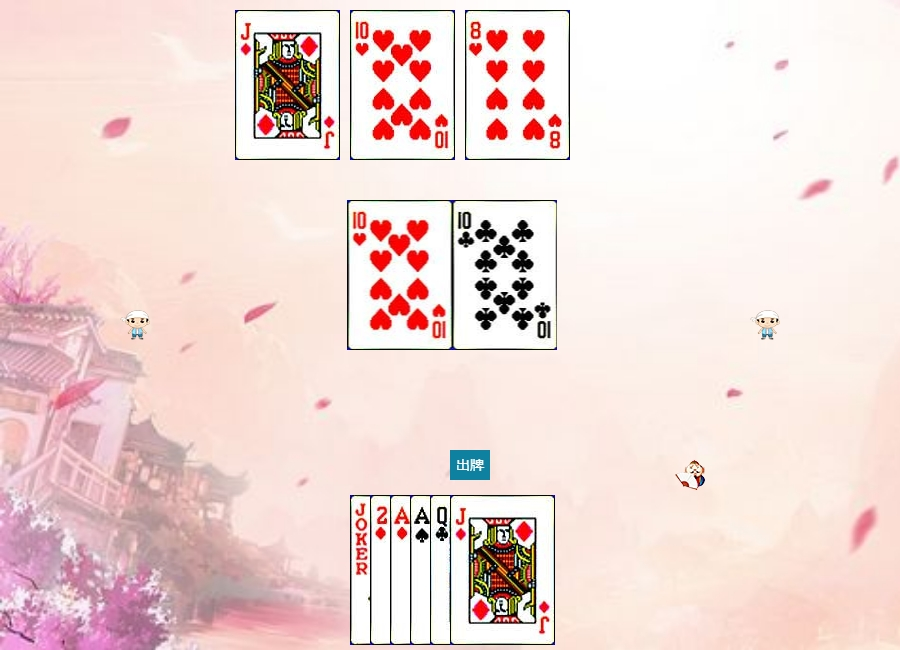10~2: (453, 200, 558, 350)
10~3: (350, 10, 455, 160), (348, 200, 453, 350)
11~1: (235, 10, 340, 160), (450, 495, 555, 645)
12~2: (430, 495, 535, 645)
14~1: (390, 495, 495, 645)
14~4: (410, 495, 515, 645)
15~1: (370, 495, 475, 645)
18~4: (350, 495, 455, 645)
8~3: (465, 10, 570, 160)
